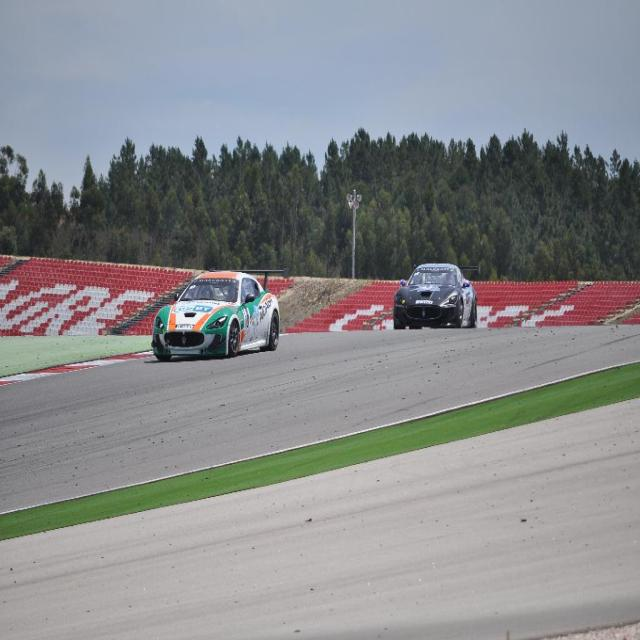Passenger Car: (151, 266, 286, 362), (394, 262, 479, 332)
